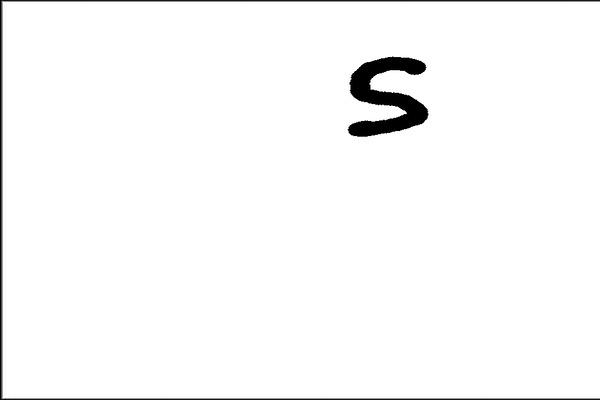S: (341, 51, 432, 142)
